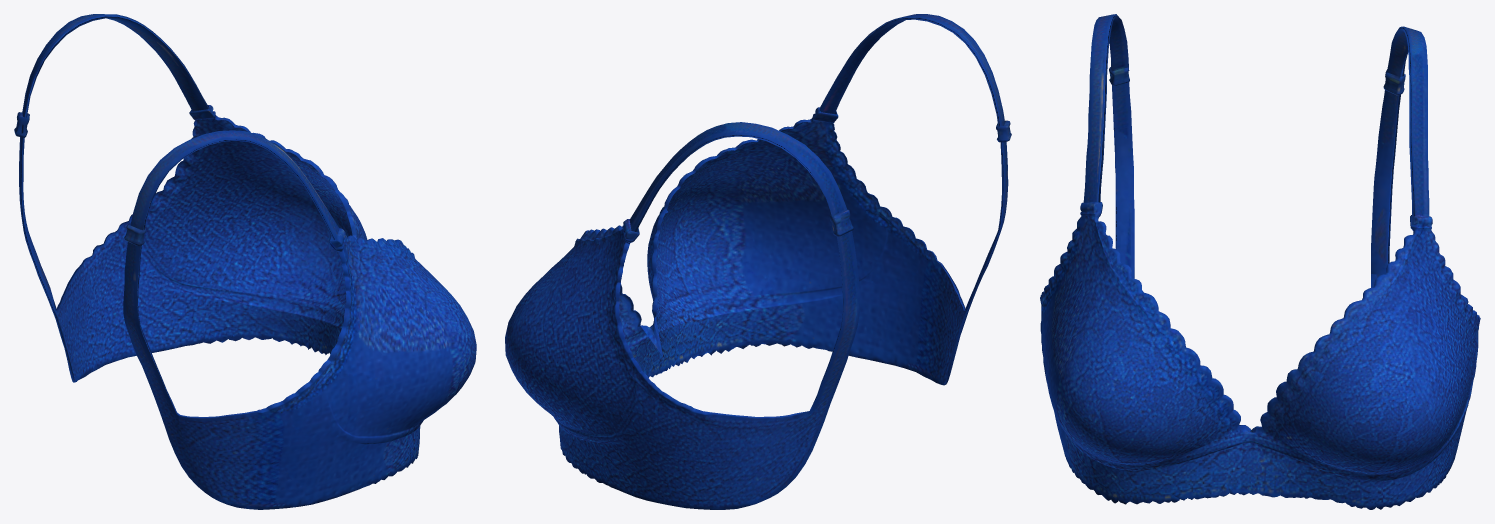
The model's file is sutia_azul_renda.glb.
3 views of the same model, side by side, from view 1: azimuth 30°, elevation 25°; view 2: azimuth 150°, elevation 25°; view 3: azimuth 270°, elevation 25° (orthographic).
Parts seen in each view (by area): view 1: sutia_azul_renda; view 2: sutia_azul_renda; view 3: sutia_azul_renda.
Part boxes in pixels (<box>): sutia_azul_renda: <box>14,14,476,509</box>; sutia_azul_renda: <box>505,14,1011,509</box>; sutia_azul_renda: <box>1040,14,1480,509</box>.
Size of the model in its own units: 0.3057 by 0.3057 by 0.3213.
1 material, 1 textured.
